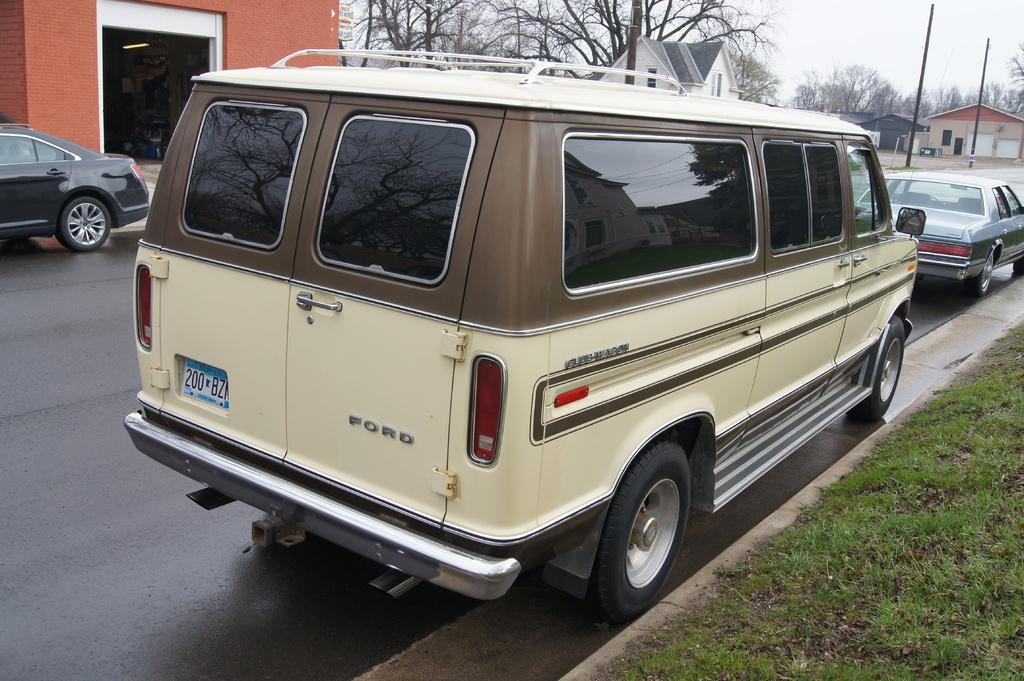vehicle: (123, 49, 926, 629), (837, 171, 1024, 298), (0, 121, 150, 253)
